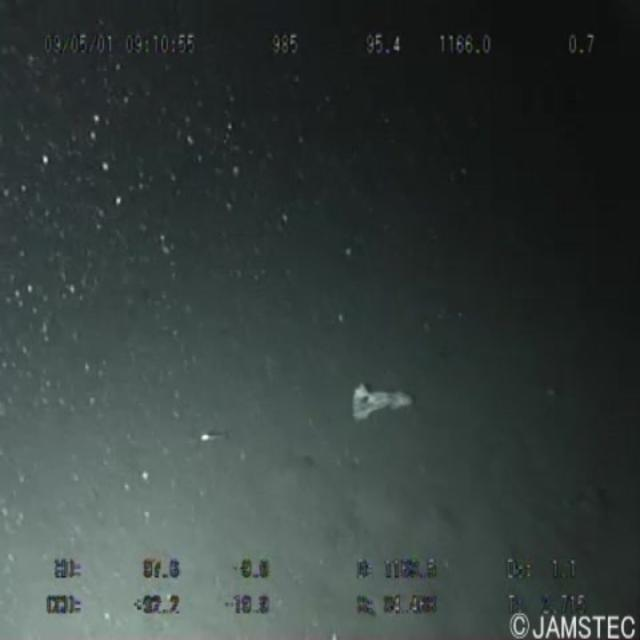Plastic: (338, 372, 431, 436)
